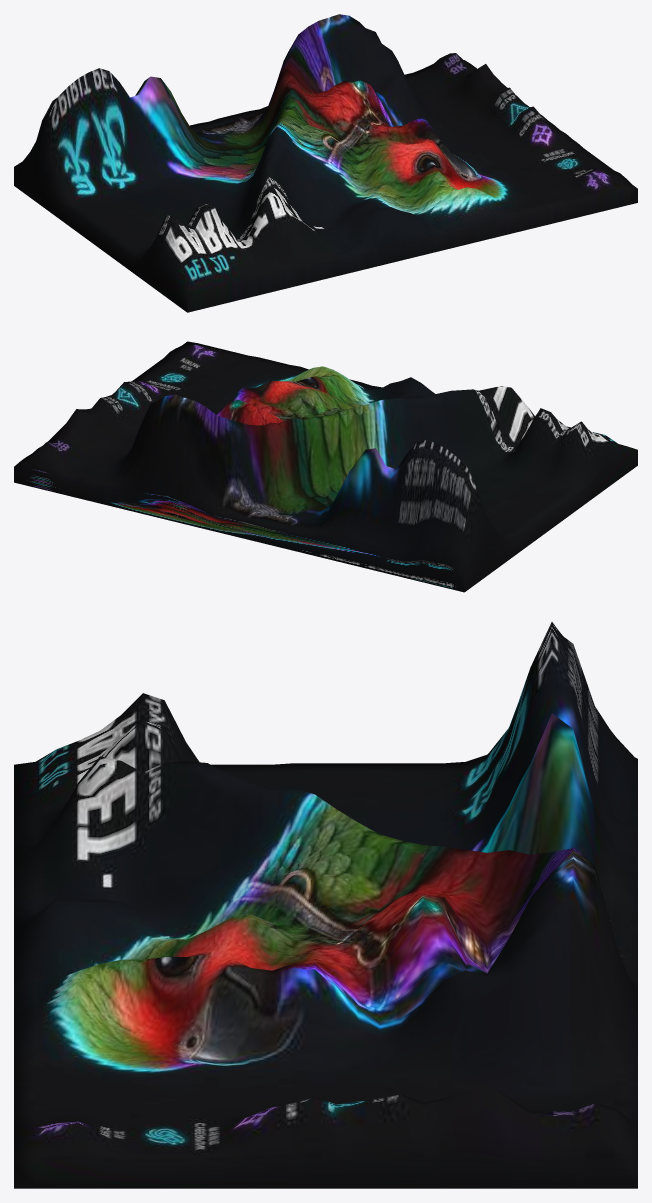
The model's file is PET_19_Parrot.glb.
3 renders of one model, top to bottom at view 1: azimuth 30°, elevation 25°; view 2: azimuth 150°, elevation 25°; view 3: azimuth 270°, elevation 25°, orthographic. The views are drawn at different scales.
Visible parts, largest first — view 1: PET_19_Parrot; view 2: PET_19_Parrot; view 3: PET_19_Parrot.
Part boxes in pixels (box(x1,y1,x2,y2)): PET_19_Parrot: box(14, 14, 637, 312); PET_19_Parrot: box(14, 341, 637, 592); PET_19_Parrot: box(14, 622, 637, 1188).
Size of the model in its own units: 2 by 0.51 by 1.33.
Materials: 1 (1 with a texture image).
